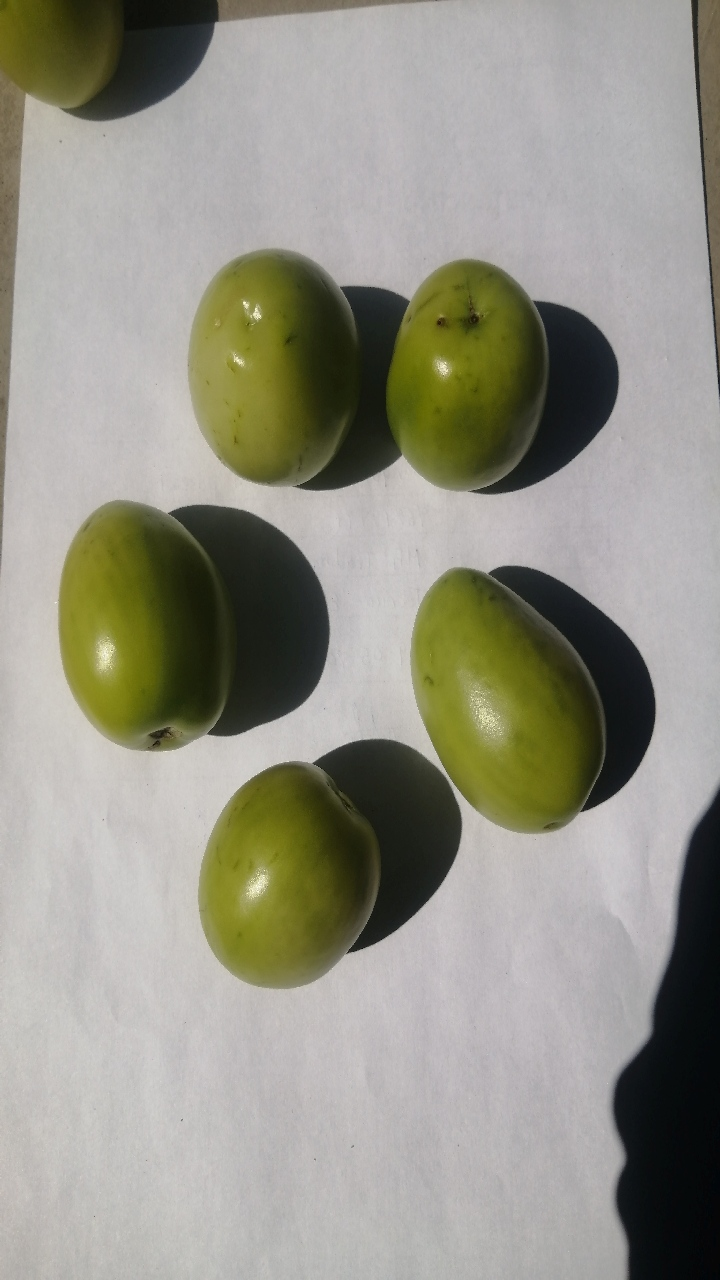tomateVerde: (386, 542, 618, 860), (38, 479, 244, 772), (191, 732, 395, 1011), (171, 226, 372, 491), (374, 237, 568, 499)
